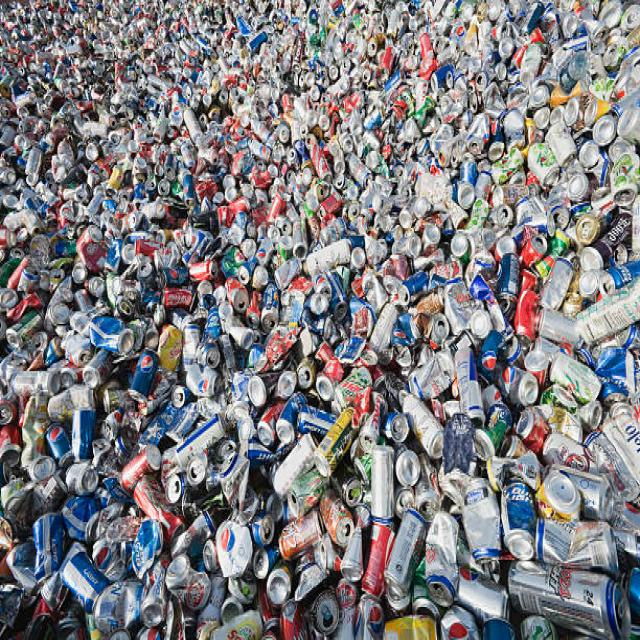metal: (17, 10, 630, 610)
